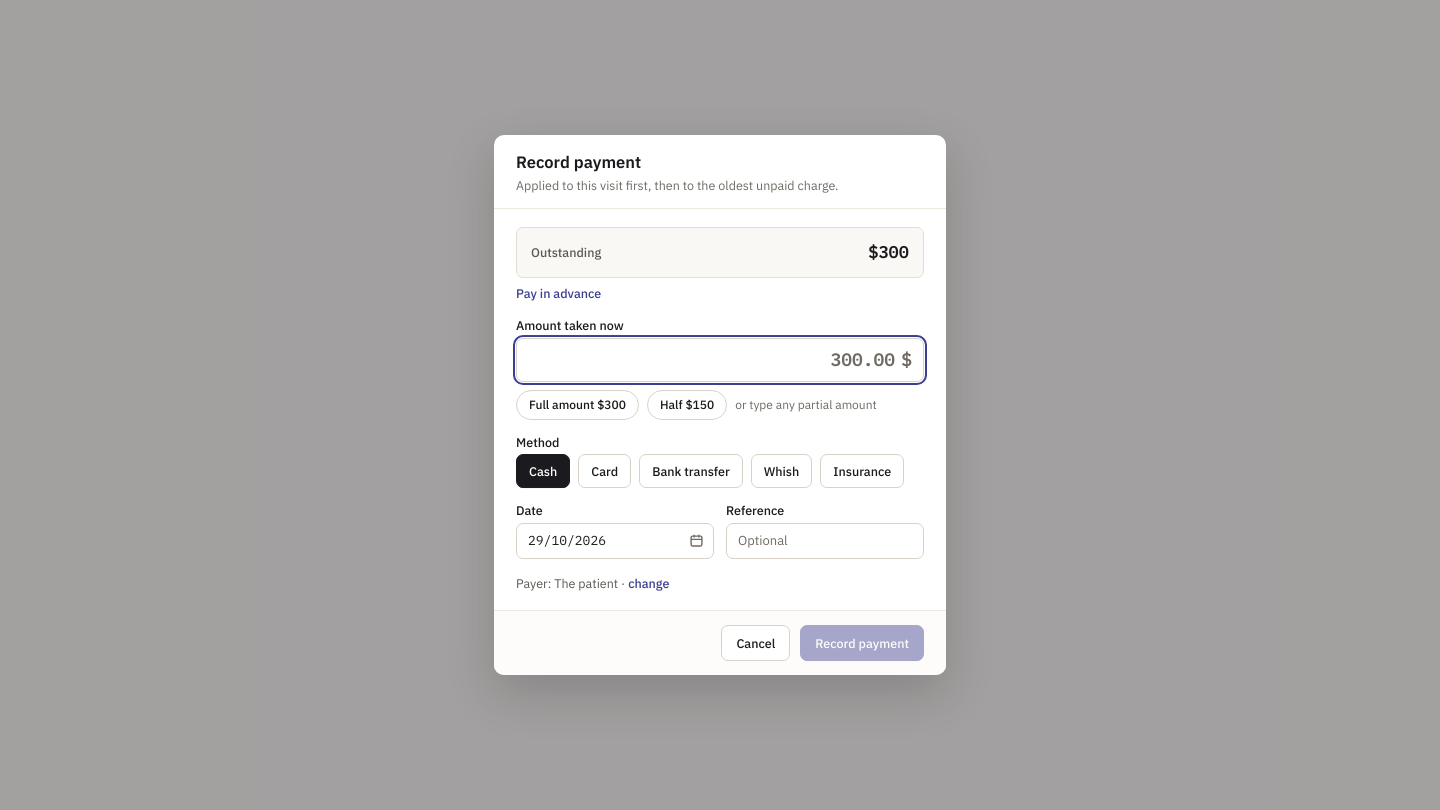
Scenario: Record payment (spec §Record Payment) › posts the payment with an Idempotency-Key, the context visit and the method
The image size is (1440, 810).
Step 1. Type "300" into the field labelled "Amount taken now" → (712, 360), box x1=528 y1=339 x2=895 y2=381
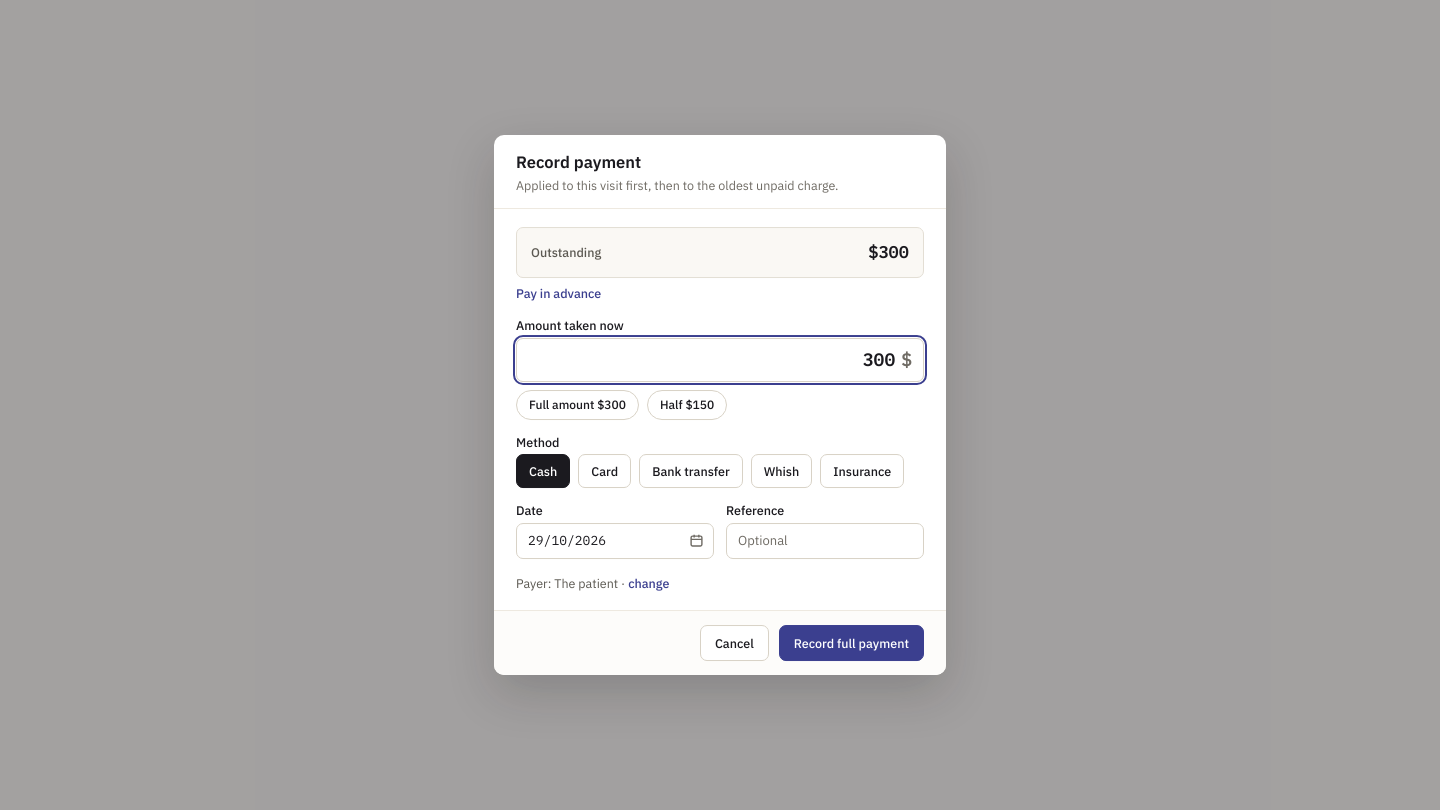
Step 2. Click the button "Card" → (605, 471), box x1=578 y1=454 x2=631 y2=488
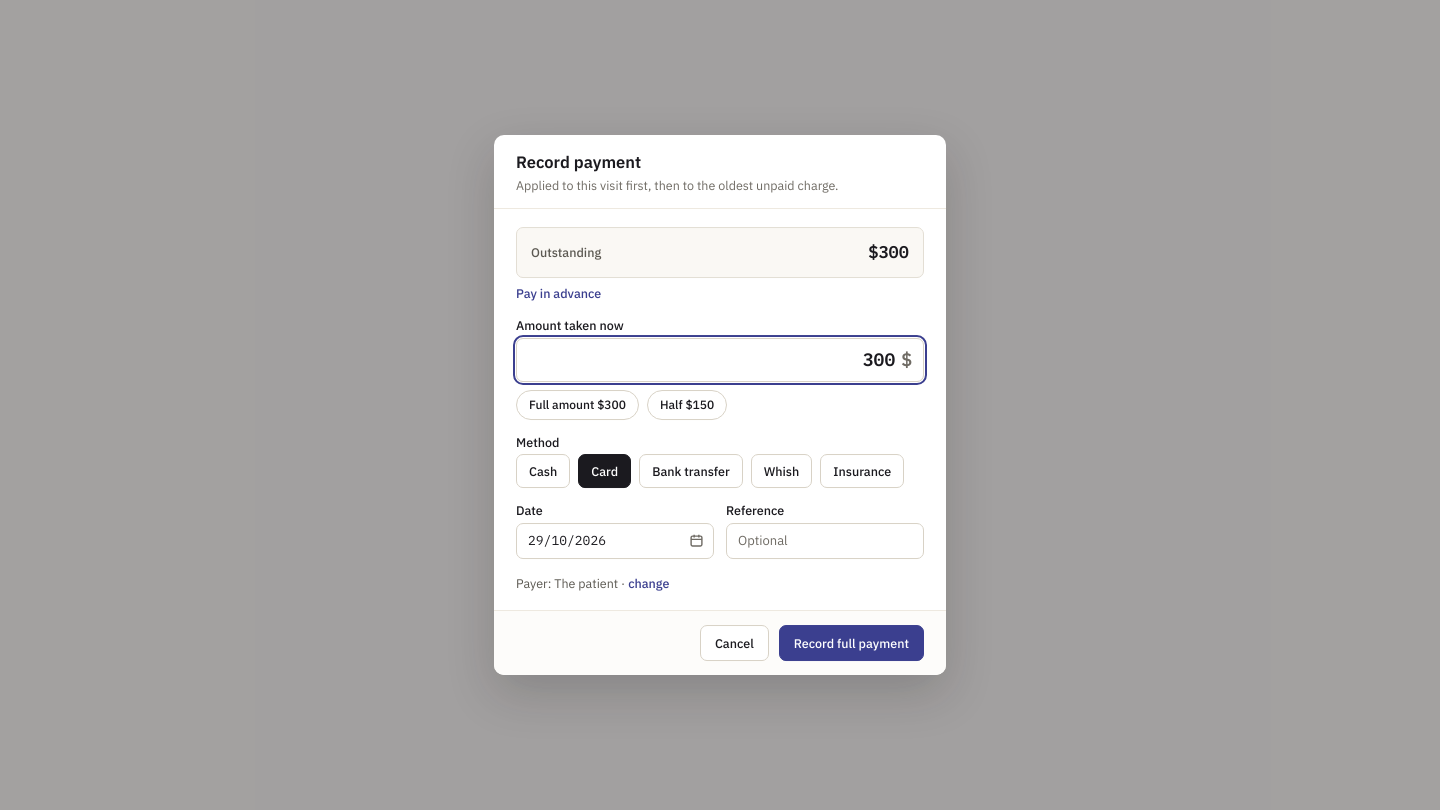
Step 3. Click the button "Record full payment" → (851, 643), box x1=779 y1=625 x2=924 y2=661
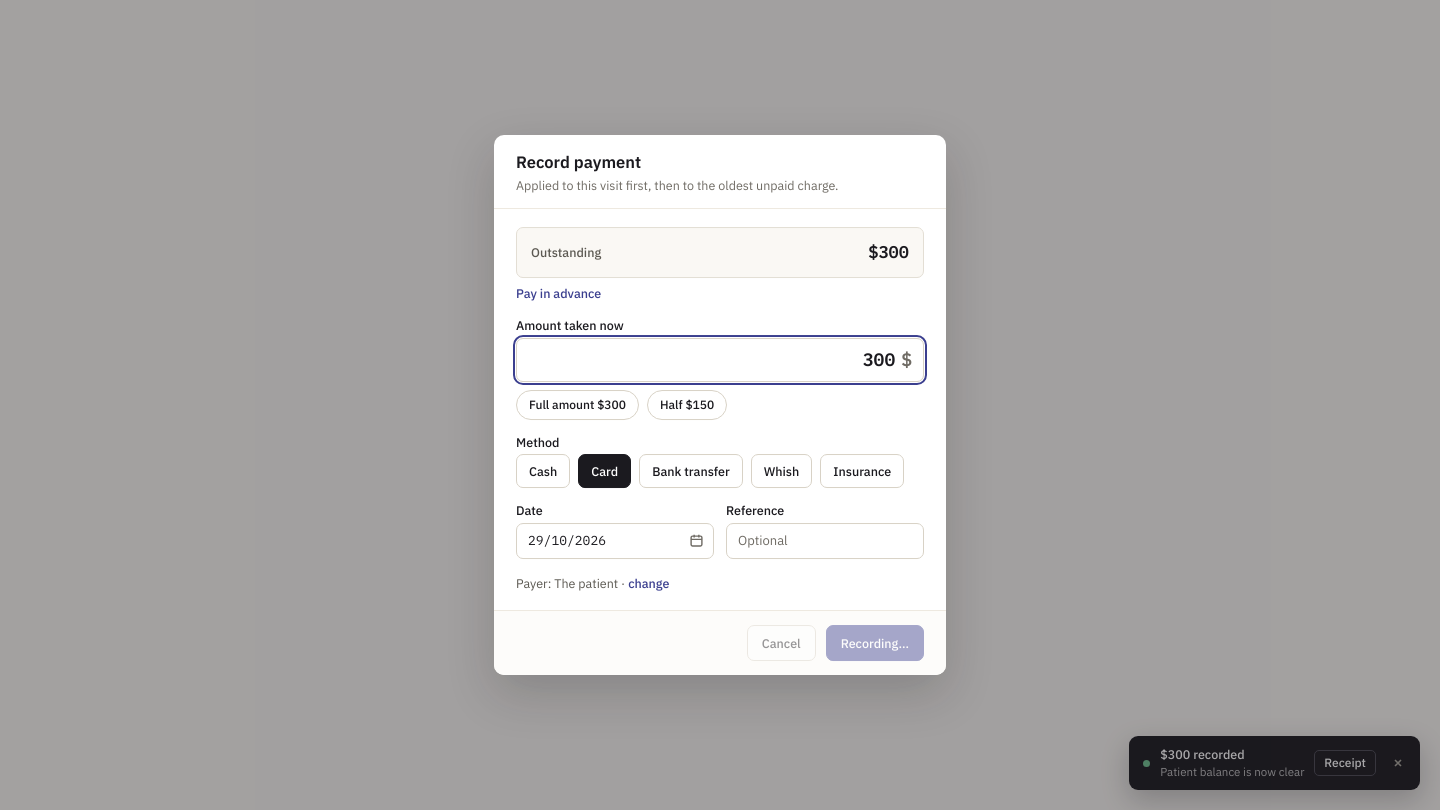
Result: the text "$300 recorded" is shown at x1=1160 y1=746 x2=1245 y2=762
